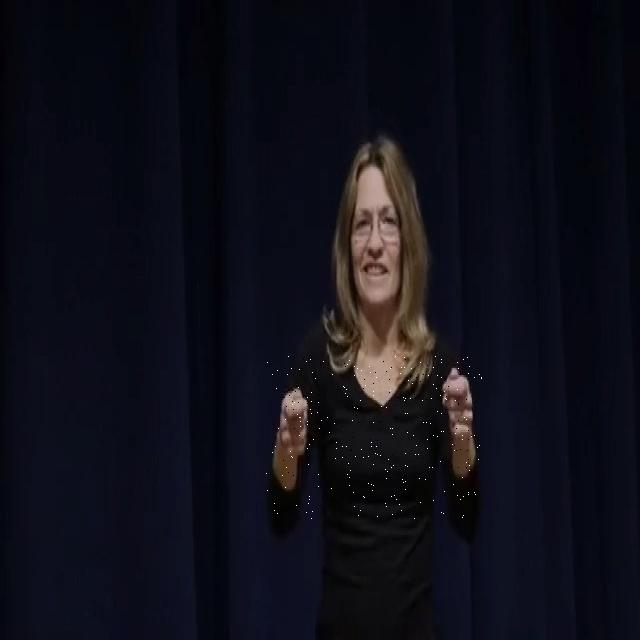manager: (266, 357, 482, 520)
